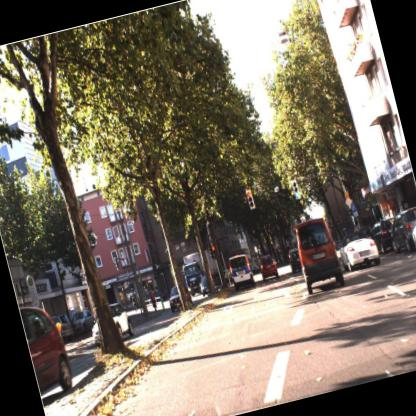other: (342, 194, 354, 210)
